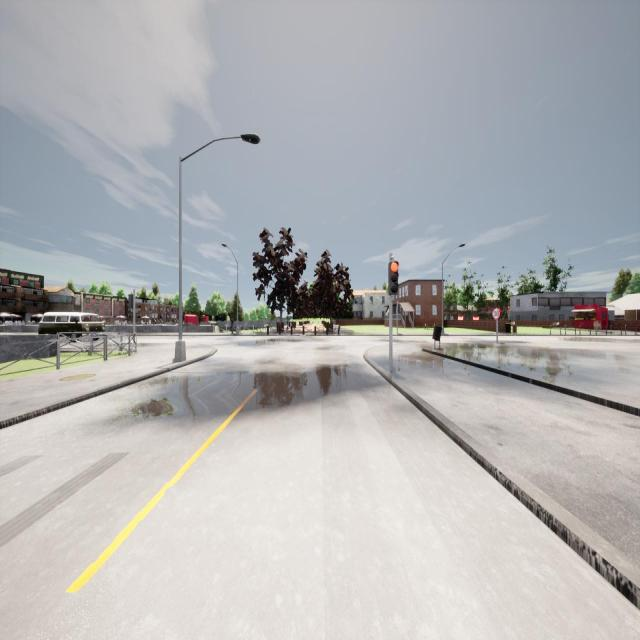Pedestrian: (229, 315, 235, 334)
Traffic_Signs: (492, 307, 501, 320)
Vehicle: (38, 312, 104, 342)
traffic_light: (388, 262, 399, 295)
